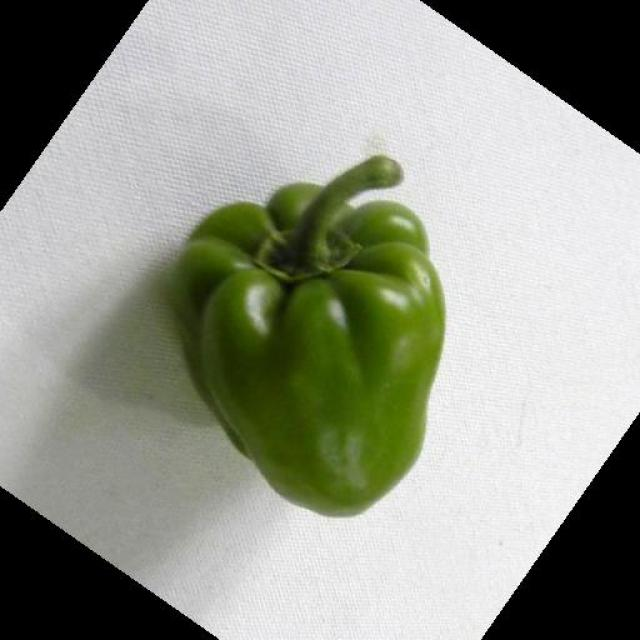Fresh_Capsicum: (177, 213, 461, 520)
